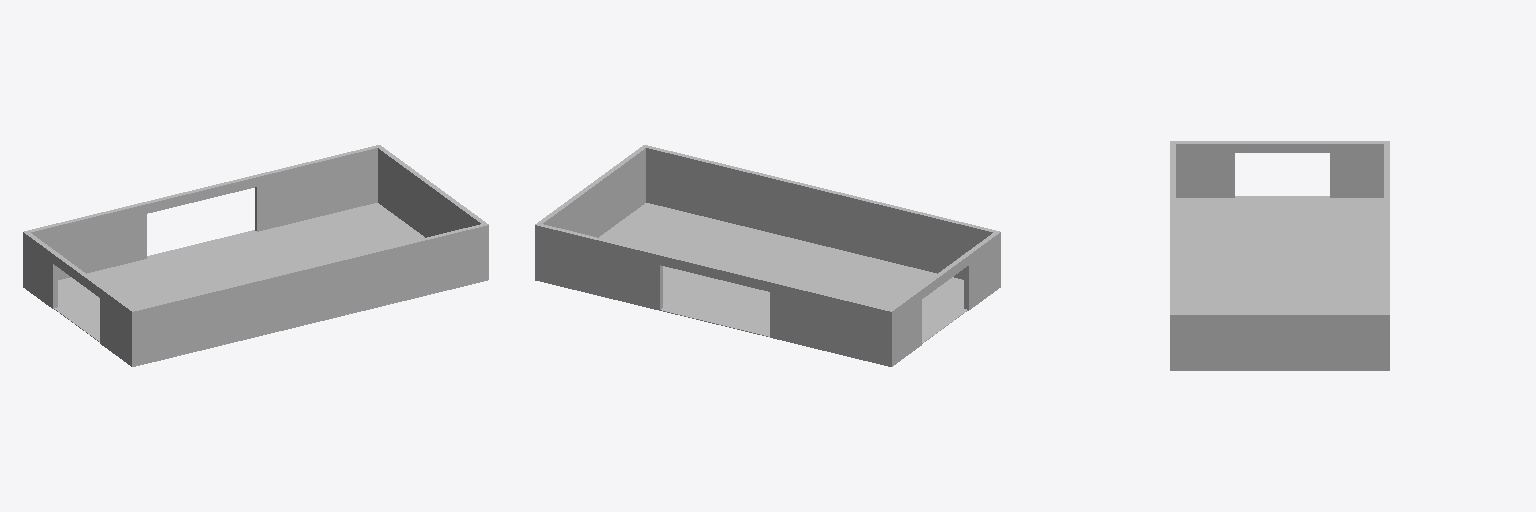
The model's file is area_peques.obj.
The picture shows the model from 3 angles: view 1: azimuth 30°, elevation 25°; view 2: azimuth 150°, elevation 25°; view 3: azimuth 270°, elevation 25°; orthographic projection.
Visible parts, largest first — view 1: polySurface431; view 2: polySurface431; view 3: polySurface431.
Boxes of the visible parts, box(x1,y1,x2,y2) form: polySurface431: box(23, 145, 488, 366); polySurface431: box(535, 145, 1000, 366); polySurface431: box(1170, 141, 1389, 370).
Size of the model in its own units: 140 by 20.8 by 74.75.